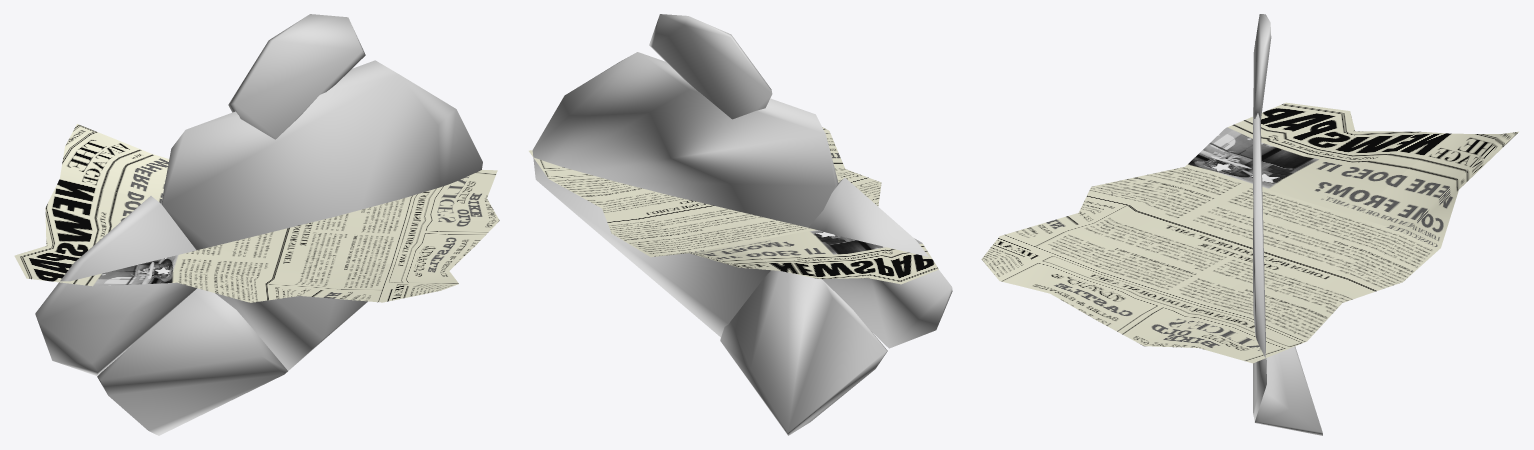
File: SM_Poster_01.fbx
The picture shows the model from 3 angles, left to right: view 1: azimuth 30°, elevation 25°; view 2: azimuth 150°, elevation 25°; view 3: azimuth 270°, elevation 25°; orthographic projection. The views are drawn at different scales.
Visible parts, largest first — view 1: SM_Poster_01_ConvexHulls, SM_Poster_01; view 2: SM_Poster_01_ConvexHulls, SM_Poster_01; view 3: SM_Poster_01, SM_Poster_01_ConvexHulls.
Part boxes in pixels (x1=…): SM_Poster_01_ConvexHulls: x1=35, y1=14, x2=482, y2=435; SM_Poster_01: x1=14, y1=124, x2=499, y2=302; SM_Poster_01_ConvexHulls: x1=532, y1=14, x2=952, y2=435; SM_Poster_01: x1=529, y1=127, x2=938, y2=284; SM_Poster_01: x1=981, y1=102, x2=1518, y2=363; SM_Poster_01_ConvexHulls: x1=1253, y1=14, x2=1322, y2=435.
Size of the model in its own units: 0.4426 by 0.3734 by 0.3721.
